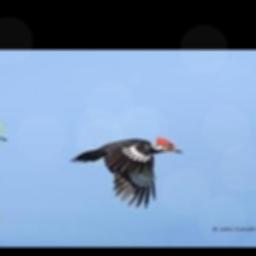Woodpecker: (69, 136, 182, 208)
